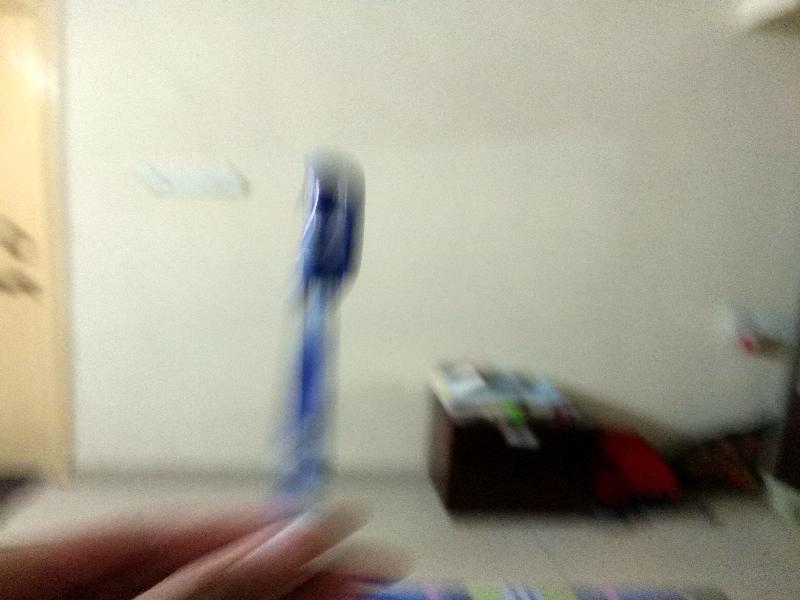pen: (280, 142, 381, 549)
